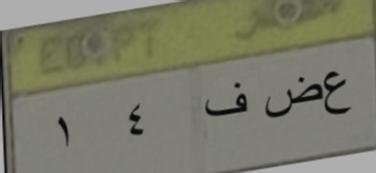1: (54, 114, 74, 149)
4: (122, 102, 148, 138)
ain: (324, 68, 355, 122)
daad: (264, 72, 322, 121)
faa: (198, 79, 249, 120)
